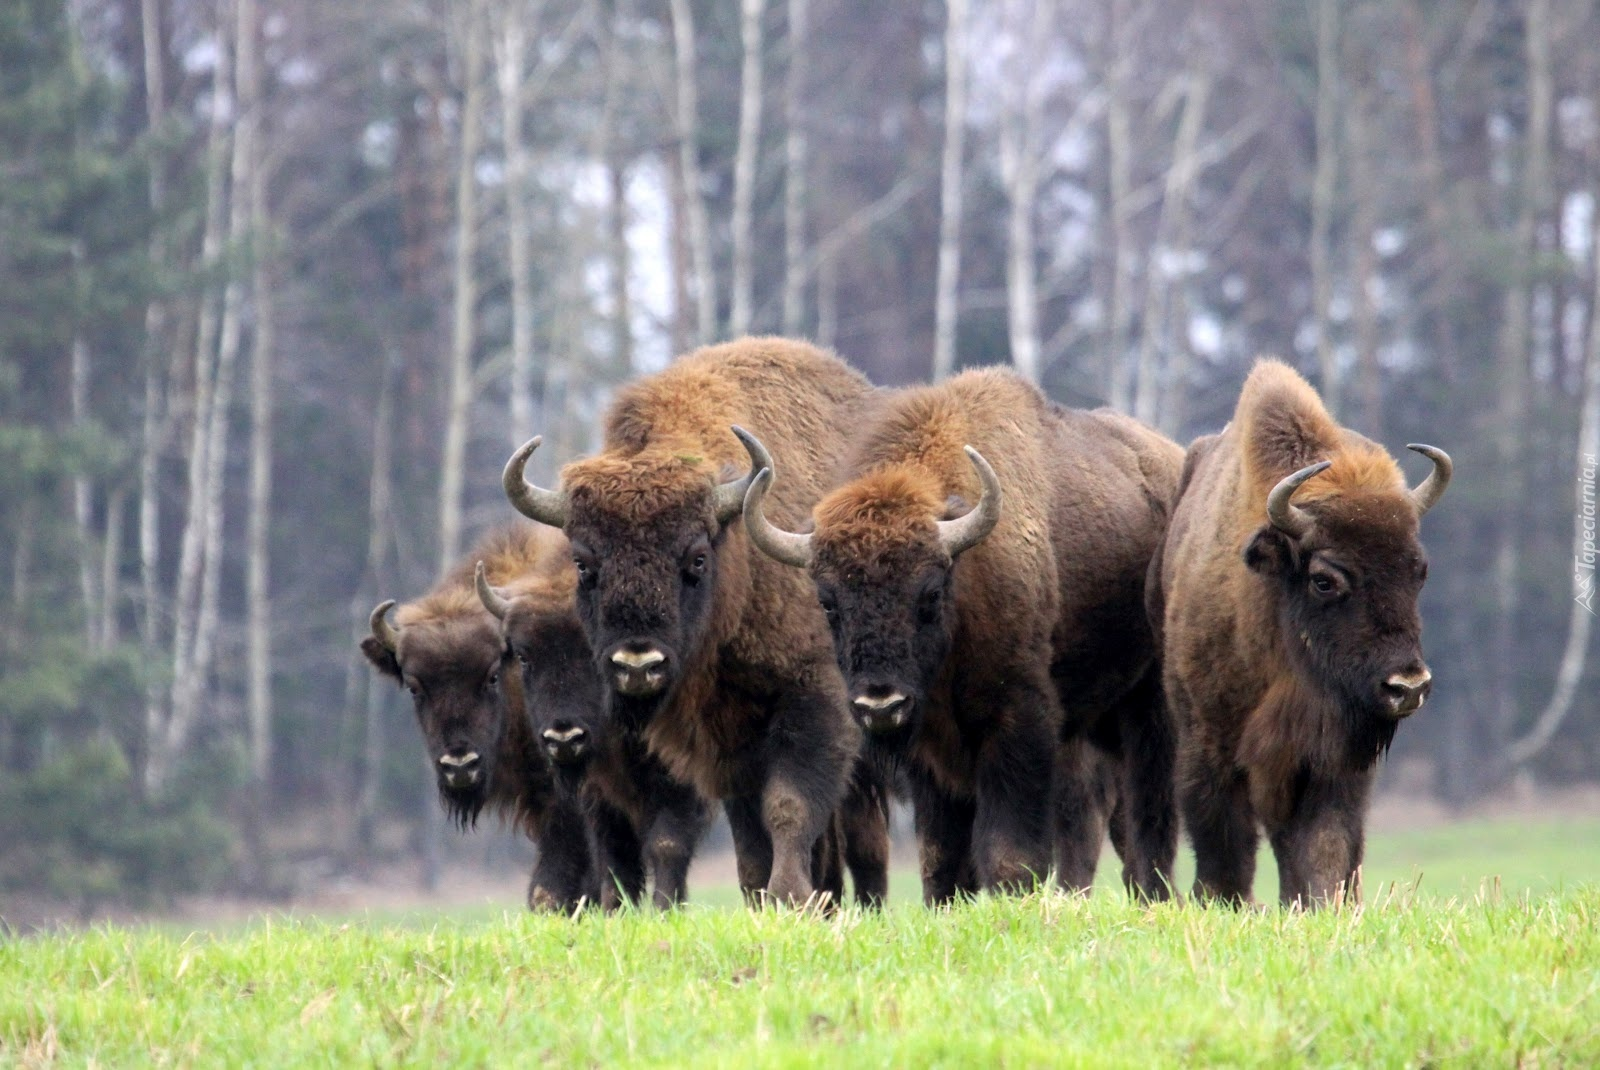zubr: (736, 281, 1104, 905), (504, 251, 798, 909), (1159, 345, 1459, 905), (319, 518, 516, 875)
